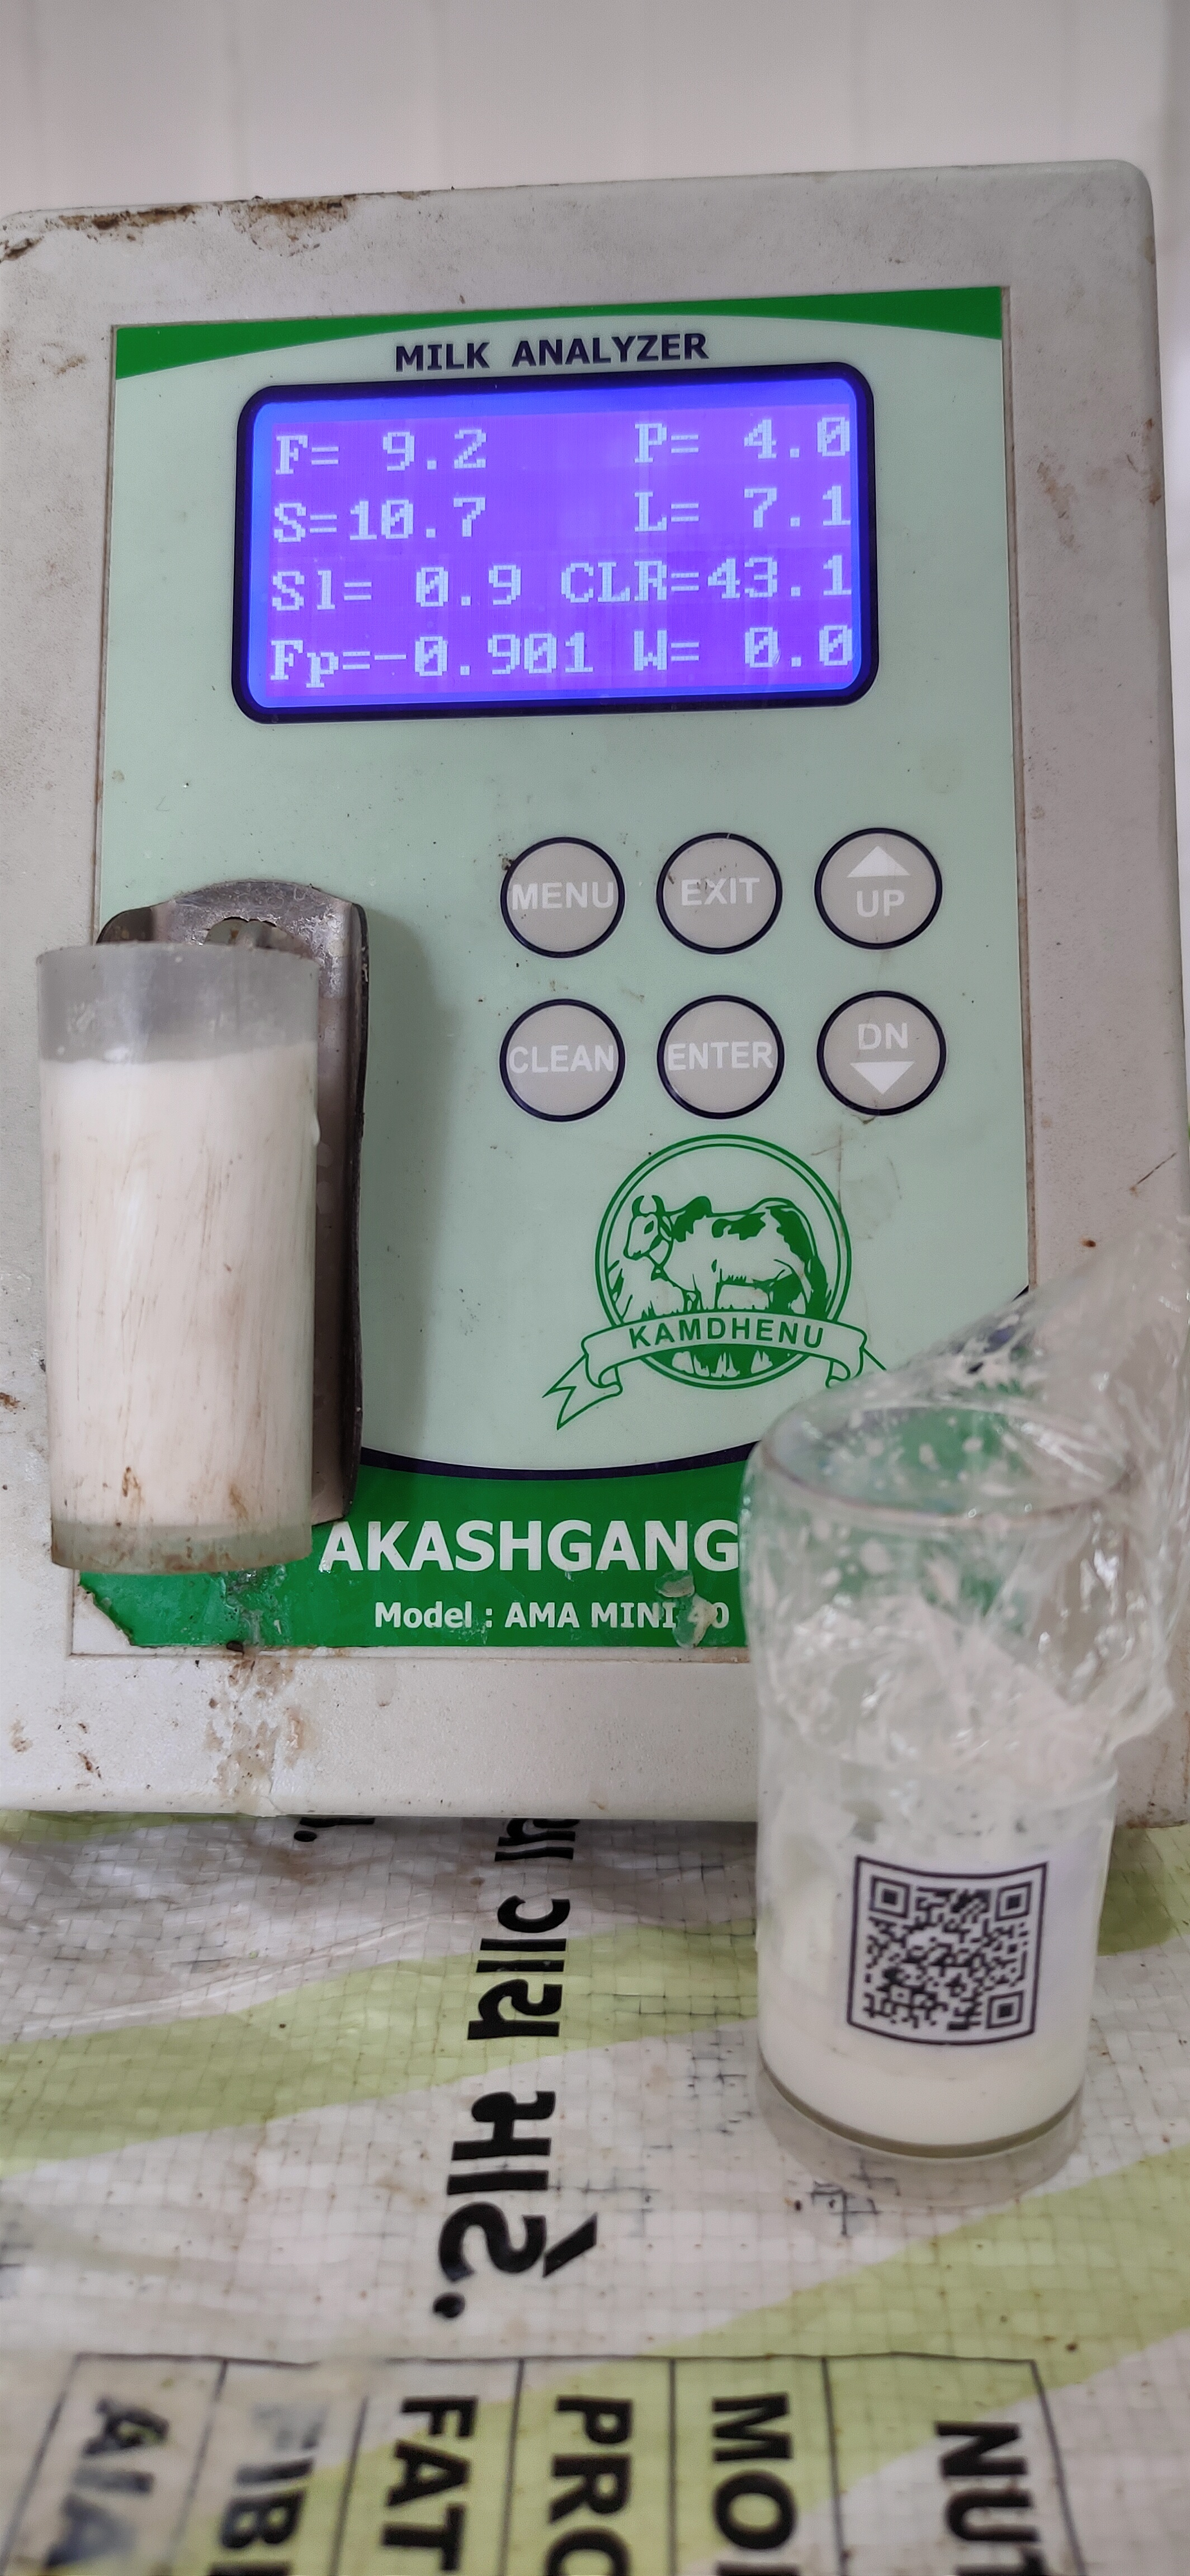lcd: (242, 384, 884, 736)
qr: (840, 1835, 1052, 2059)
